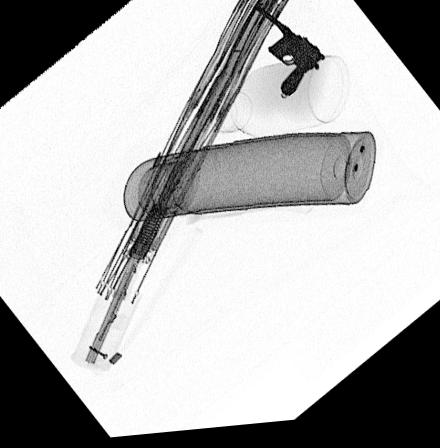Gun: (254, 6, 325, 102)
